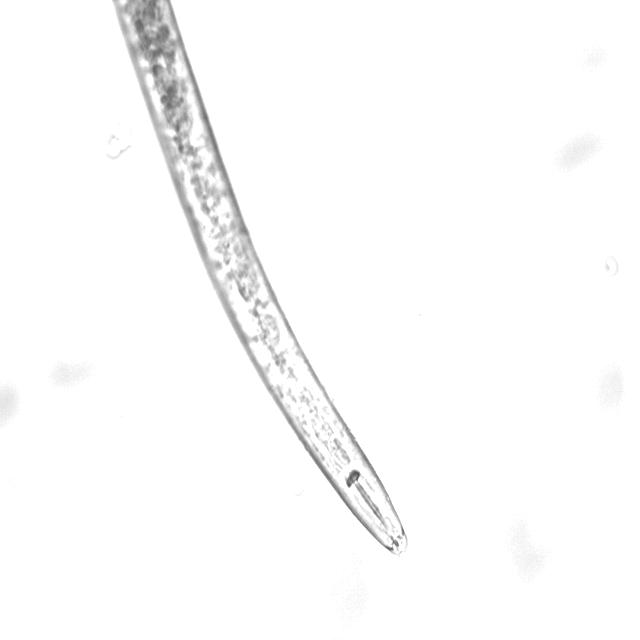Helicotylenchus: (129, 130, 415, 566)
